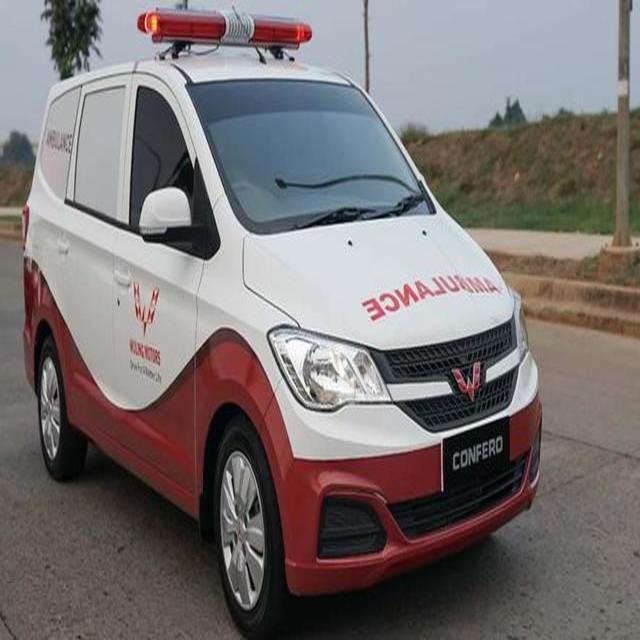ambulance: (21, 0, 544, 640)
